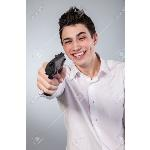Pistol: (42, 50, 66, 98)
